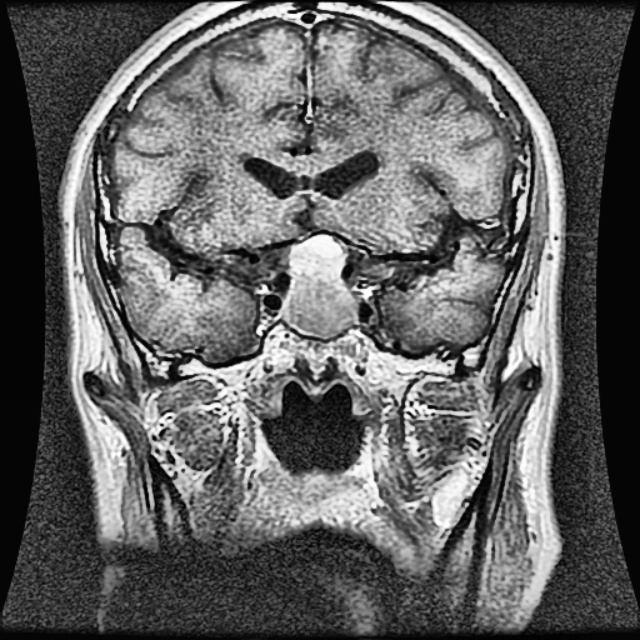Pituitary: (283, 238, 358, 338)
